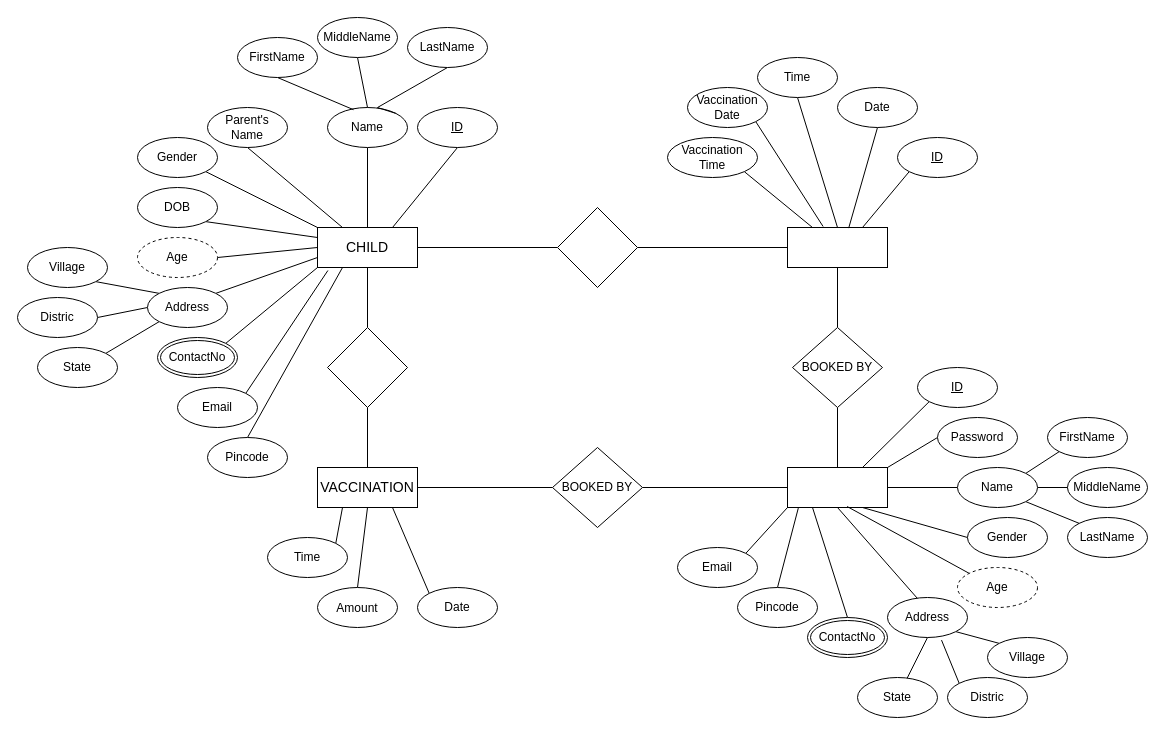
Image size: 1165x735. Some labels were removed from this diagram. The centre of each missing label's shape, as x and y in pixels:
APPOINTMENT: the point at 837,247
GETS: the point at 597,247
TO_ VACCINATE: the point at 367,367
USER: the point at 837,487
